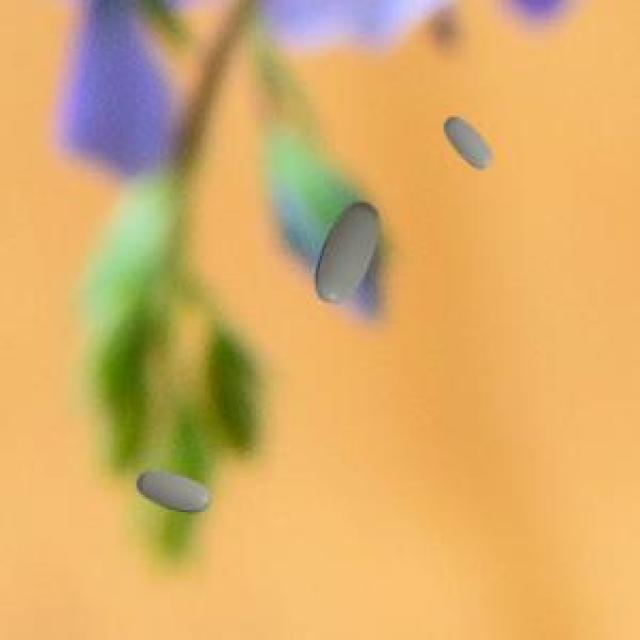Neozep: (296, 193, 394, 312), (115, 439, 224, 540), (435, 103, 502, 182)
